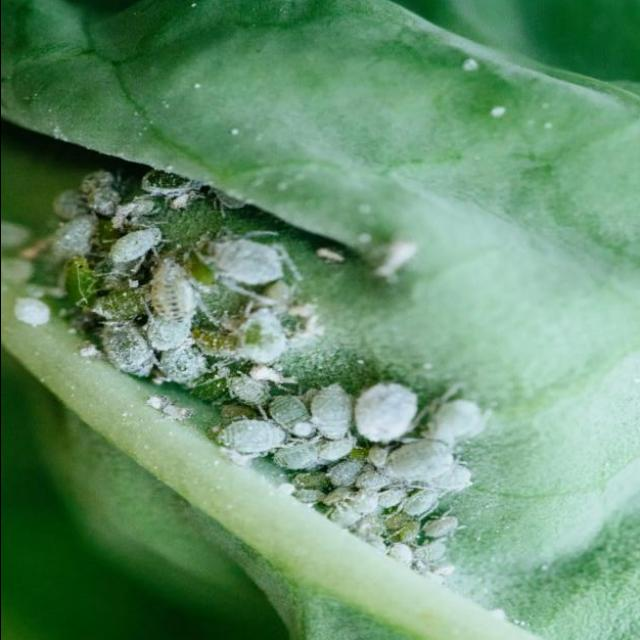Aphids: (10, 161, 328, 409), (179, 366, 500, 580)
